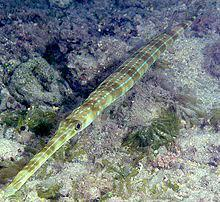Fistularia commersonii: (1, 20, 190, 198)
